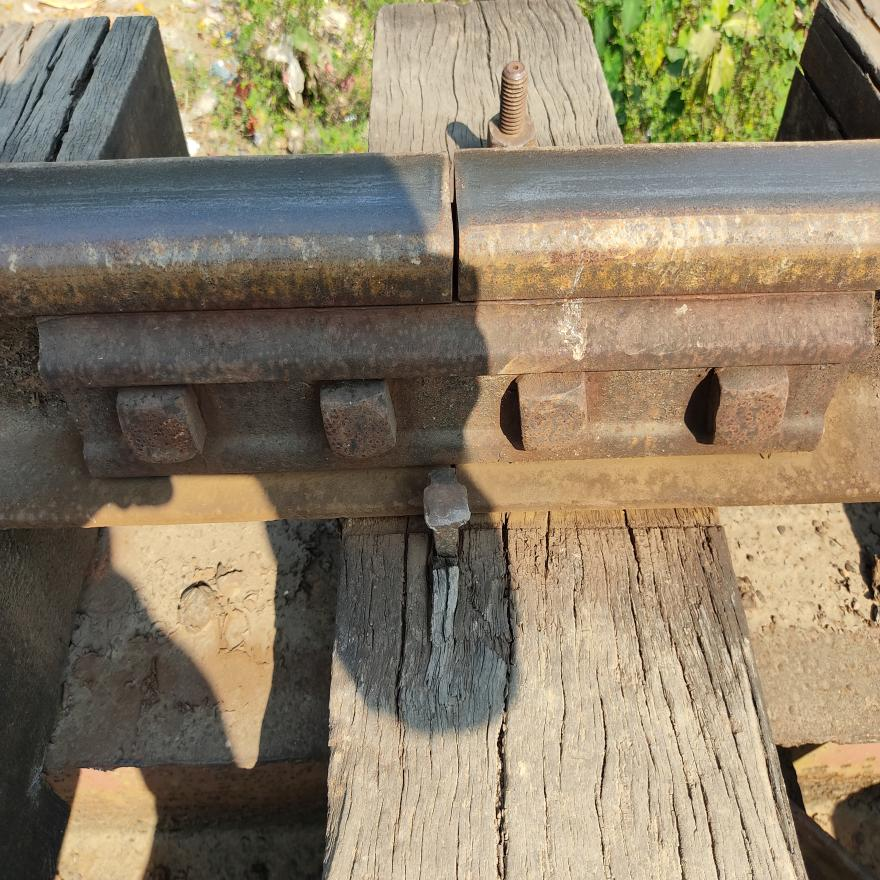railway-gap: (383, 143, 529, 320)
